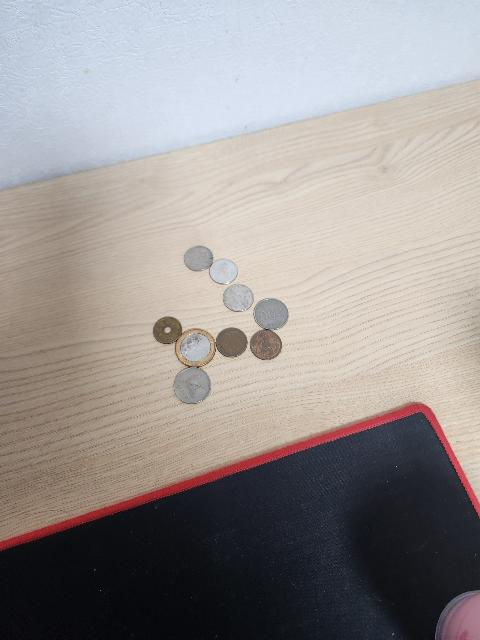coin: (174, 329, 216, 367), (174, 366, 211, 404), (254, 298, 288, 328), (216, 328, 248, 358), (250, 330, 282, 360), (223, 283, 255, 313), (153, 316, 183, 344), (209, 258, 237, 284), (184, 246, 214, 270)
